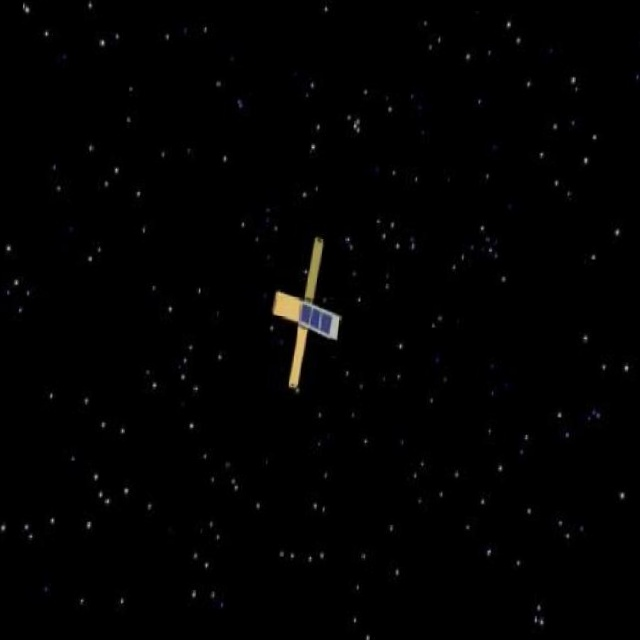medium_debris: (248, 221, 367, 397)
